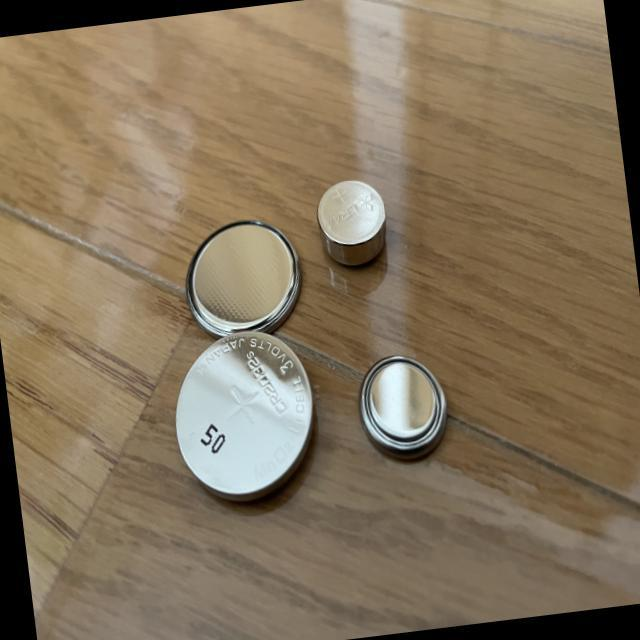COIN: (160, 322, 327, 512), (177, 212, 309, 348), (350, 348, 458, 470), (313, 175, 397, 272)
